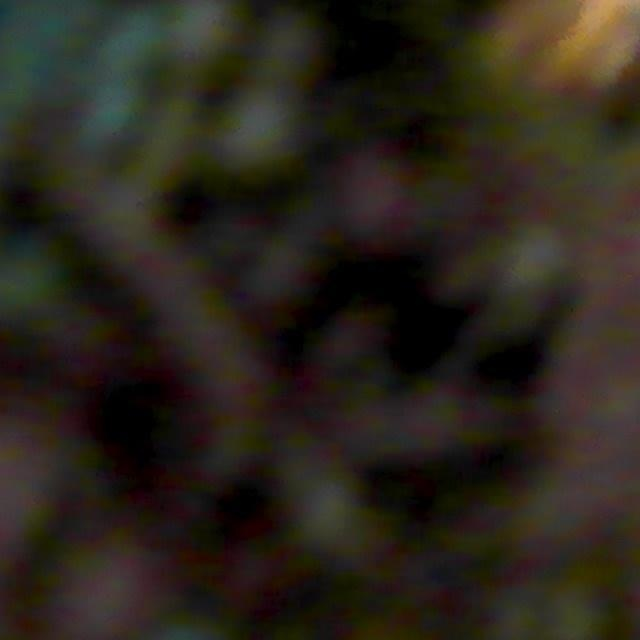SeaGrape: (44, 545, 168, 640), (215, 86, 303, 174), (290, 470, 369, 561), (498, 219, 575, 296), (164, 0, 244, 64), (256, 8, 325, 77), (101, 5, 168, 73)
